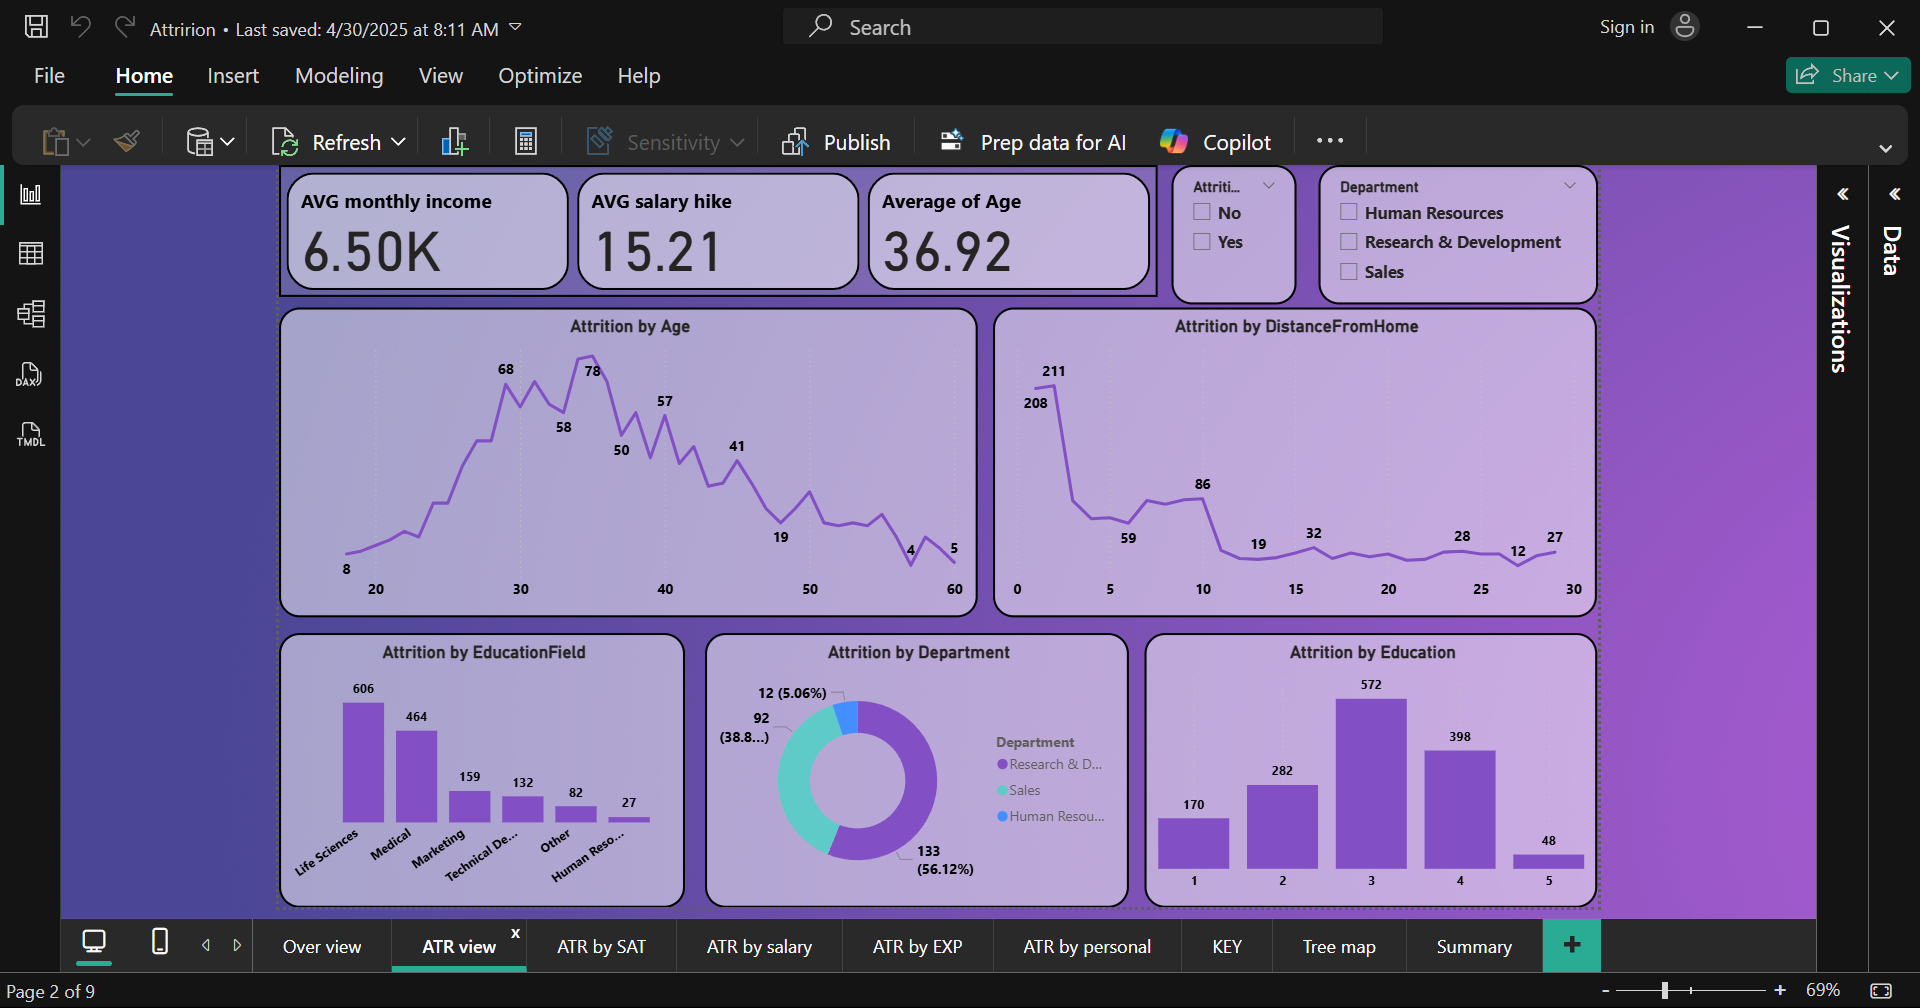

The page's visual inventory and layout, read from the dashboard file:
{"tool":"powerbi","page":{"name":"ATR view","canvas":[1280,720],"ordinal":1},"visuals":[{"type":"donutChart","title":"Attrition by Department","fields":{"Category":["clean data.Department"],"Y":["CountNonNull(clean data.Attrition)"]},"box":[413,453.5,411.4,266.5],"z":0},{"type":"clusteredColumnChart","title":"Attrition by EducationField","fields":{"Category":["clean data.EducationField"],"Y":["CountNonNull(clean data.Attrition)"]},"box":[0,453.5,394.3,266.5],"z":1000},{"type":"lineChart","title":"Attrition by DistanceFromHome","fields":{"Category":["clean data.DistanceFromHome"],"Y":["CountNonNull(clean data.Attrition)"]},"box":[693.5,138.7,586,300.8],"z":2000},{"type":"lineChart","title":"Attrition by Age","fields":{"Category":["clean data.Age"],"Y":["CountNonNull(clean data.Attrition)"]},"box":[0,138.7,677.9,300.8],"z":3000},{"type":"clusteredColumnChart","title":"Attrition by Education","fields":{"Category":["clean data.Education"],"Y":["CountNonNull(clean data.Attrition)"]},"box":[840,453.5,439.5,266.5],"z":4000},{"type":"cardVisual","fields":{"Data":["Avg(clean data.MonthlyIncome)","Avg(clean data.PercentSalaryHike)","Avg(clean data.Age)"]},"box":[0,0,852.8,128.3],"z":5000},{"type":"slicer","fields":{"Values":["clean data.Department"]},"box":[1008.3,0,271.2,135.6],"z":6000},{"type":"slicer","fields":{"Values":["clean data.Attrition"]},"box":[866.5,0,121.6,135.6],"z":7000}]}

Visuals, with their boxes on the page's 1280x720 design canvas (x1, y1, x2, y2). These are canvas units, not pixel positions in the 1920x1008 screenshot, which may show the page scaled, cropped or inside an application window:
"Attrition by Department" donutChart: l=413, t=454, r=824, b=720
"Attrition by EducationField" clusteredColumnChart: l=0, t=454, r=394, b=720
"Attrition by DistanceFromHome" lineChart: l=694, t=139, r=1280, b=440
"Attrition by Age" lineChart: l=0, t=139, r=678, b=440
"Attrition by Education" clusteredColumnChart: l=840, t=454, r=1280, b=720
cardVisual - Avg(clean data.MonthlyIncome) x Avg(clean data.PercentSalaryHike): l=0, t=0, r=853, b=128
slicer - clean data.Department: l=1008, t=0, r=1280, b=136
slicer - clean data.Attrition: l=866, t=0, r=988, b=136
